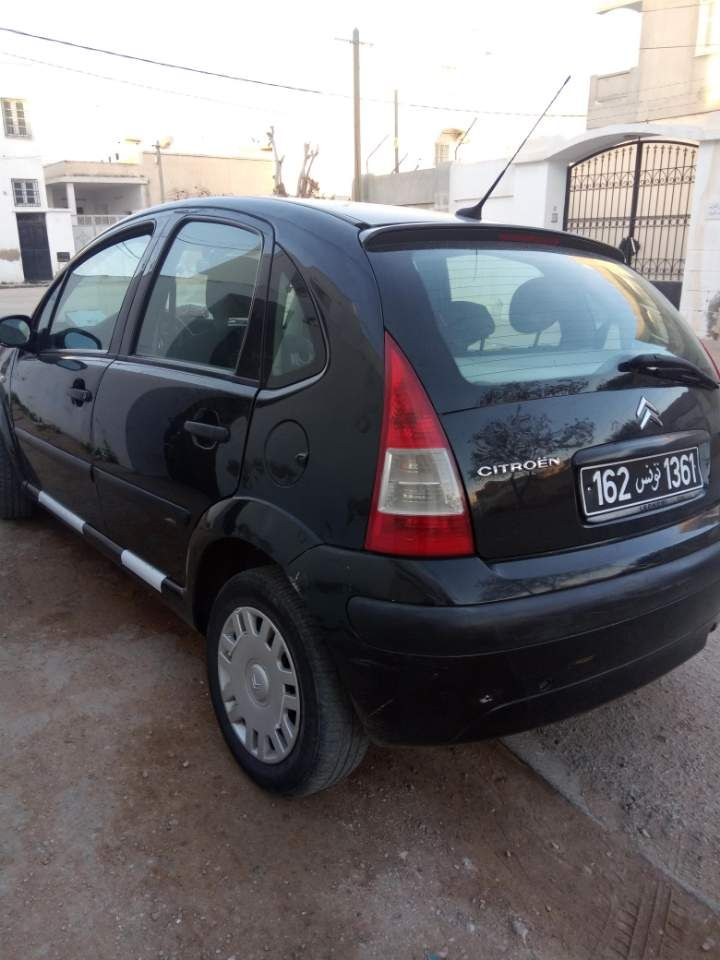LP: (580, 448, 705, 508)
